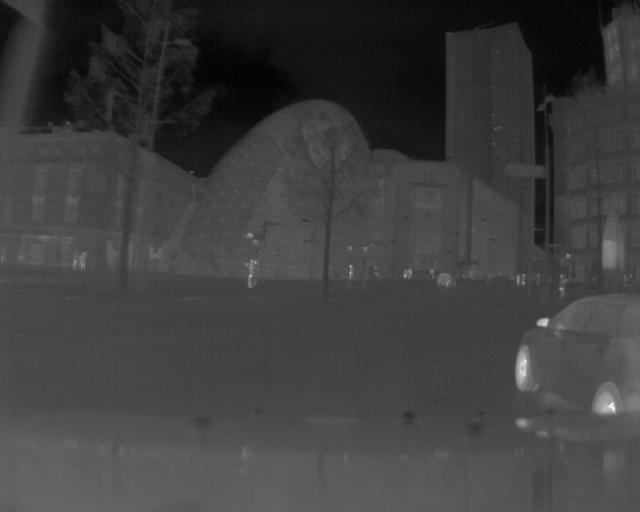car: (513, 285, 640, 414), (435, 272, 459, 288)
person: (246, 257, 258, 288), (558, 269, 568, 301), (78, 249, 87, 270), (346, 261, 355, 280), (514, 271, 521, 288), (520, 271, 527, 287), (402, 263, 408, 281), (407, 264, 413, 280)
